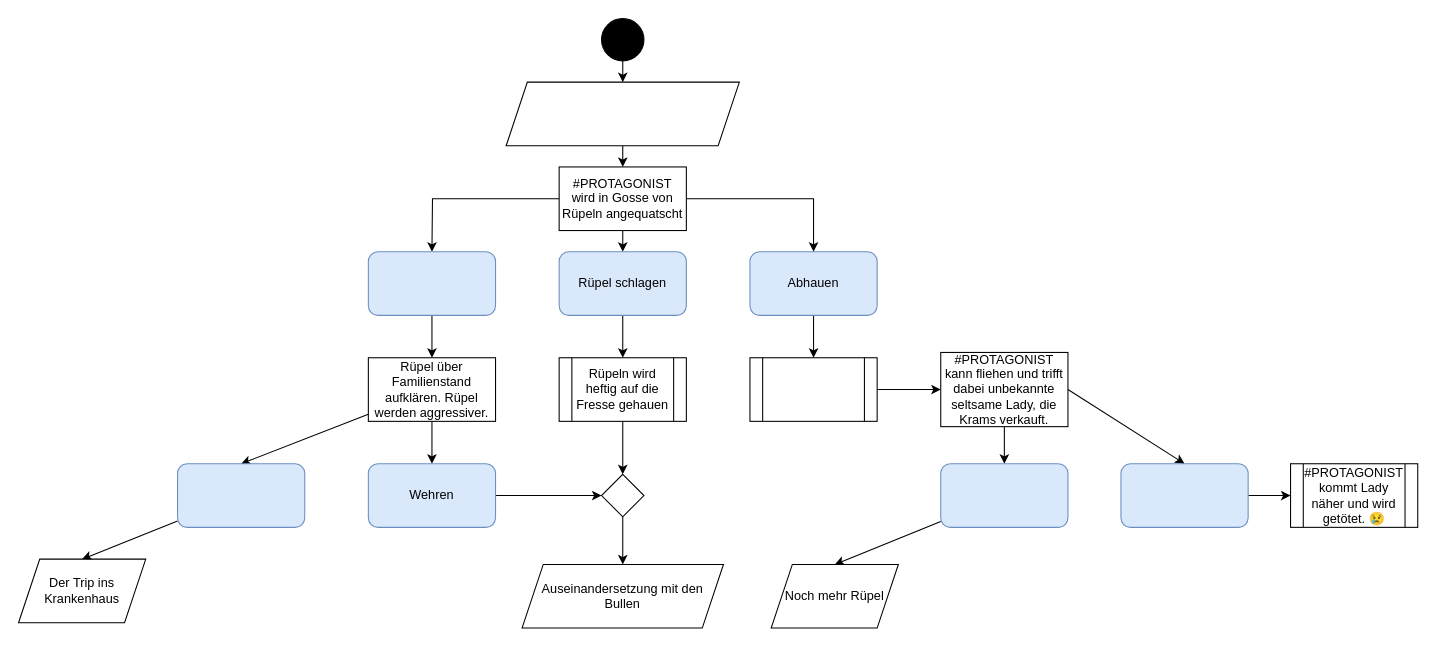
Some shapes in this 1436 by 647 pixel diagram are drawn without their labels. The shapes that lost their labels are listed below. From the top down, each one's centre as x and y in pixels, then its label:
At pixel 622 113: "Intro Einleitung zu Welt, Protagonist und seiner aktuellen Misere.".
At pixel 431 283: "Rüpel einschüchtern".
At pixel 813 389: "#PROTAGONIST ergreift die Flucht".
At pixel 240 495: "Stellung halten und Rüpel weiter einschüchtern".
At pixel 1004 495: "Weiterlaufen".
At pixel 1184 495: "Waren kaufen".
